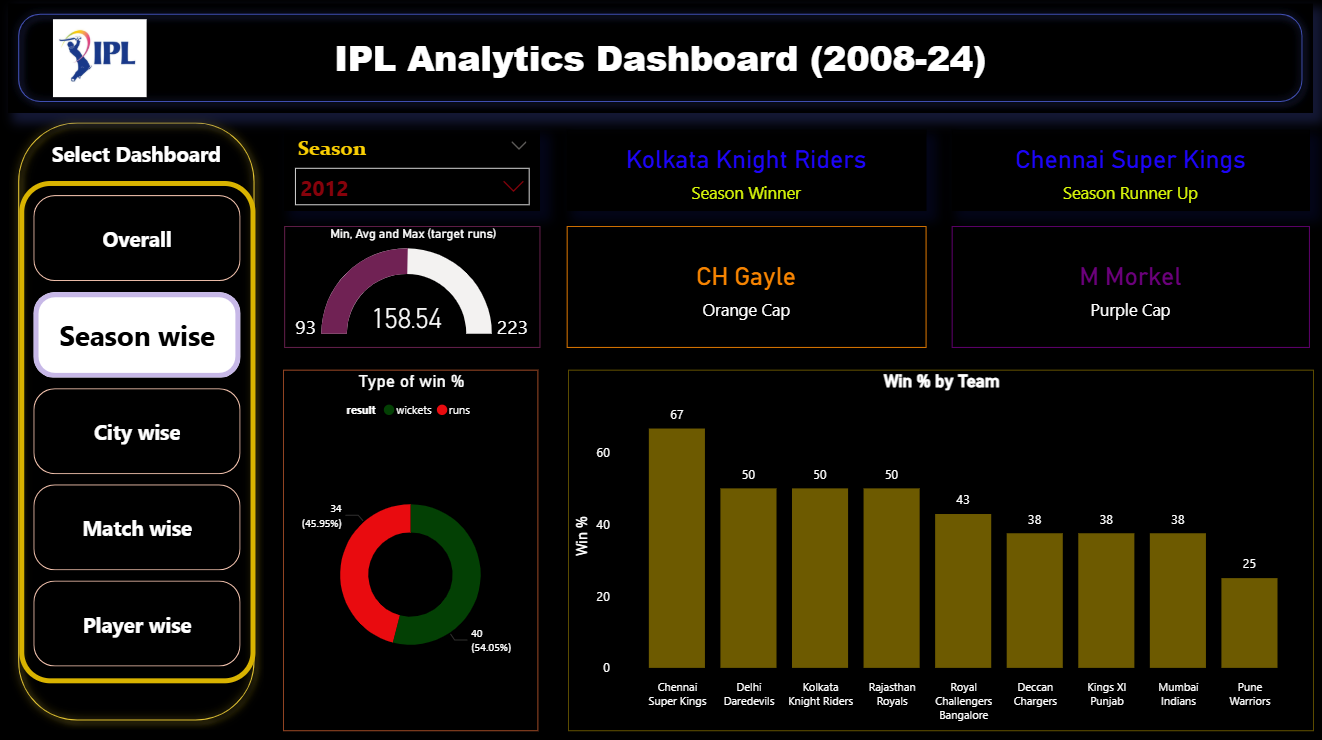

The page's visual inventory and layout, read from the dashboard file:
{"tool":"powerbi","page":{"name":"Season wise","canvas":[1280,720],"ordinal":1},"visuals":[{"type":"shape","box":[10.1,112.5,248.2,597.3],"z":0},{"type":"shape","box":[10.1,7.2,1259.5,105.3],"z":1000},{"type":"slicer","fields":{"Values":["matches.season"]},"box":[276,129.3,246.9,78.4],"z":2000},{"type":"card","fields":{"Values":["deliveries.Season Winner"]},"box":[549.1,129.3,347.2,78.4],"z":3000},{"type":"card","fields":{"Values":["deliveries.Season Runner Up"]},"box":[920.9,129.3,345.7,78.4],"z":4000},{"type":"card","fields":{"Values":["deliveries.Orange Cap"]},"box":[549.1,222.2,347.2,117.7],"z":5000},{"type":"card","fields":{"Values":["deliveries.Purple Cap"]},"box":[920.9,222.2,345.7,117.7],"z":6000},{"type":"clusteredColumnChart","fields":{"Category":["Teams.Team"],"Y":["deliveries.Win %"]},"box":[549.7,360.7,719.9,349.1],"z":7000},{"type":"gauge","title":"Min, Avg and Max (target runs)","fields":{"MinValue":["matches.target_runs"],"MaxValue":["Sum(matches.target_runs)1"],"Y":["Sum(matches.target_runs)2"],"TargetValue":["Sum(matches.target_runs)3"]},"box":[276,222.2,246.9,117.7],"z":8000},{"type":"donutChart","title":"Type of win %","fields":{"Category":["matches.result"],"Y":["matches.result"]},"box":[275.6,360.7,246.7,349.1],"z":9000},{"type":"pageNavigator","box":[20.5,178.6,228,485],"z":10000},{"type":"image","box":[33.8,16.9,100.1,86.9],"z":10001}]}

Visuals, with their boxes in screenshot pixels (x1, y1, x2, y2), scaled from the page's 1280x720 canvas onto the 1322x740 screenshot:
shape: box(10, 116, 267, 730)
shape: box(10, 7, 1311, 116)
slicer - matches.season: box(285, 133, 540, 213)
card - deliveries.Season Winner: box(567, 133, 926, 213)
card - deliveries.Season Runner Up: box(951, 133, 1308, 213)
card - deliveries.Orange Cap: box(567, 228, 926, 349)
card - deliveries.Purple Cap: box(951, 228, 1308, 349)
clusteredColumnChart - Teams.Team x deliveries.Win %: box(568, 371, 1311, 730)
"Min, Avg and Max (target runs)" gauge: box(285, 228, 540, 349)
"Type of win %" donutChart: box(285, 371, 539, 730)
pageNavigator: box(21, 184, 257, 682)
image: box(35, 17, 138, 107)
